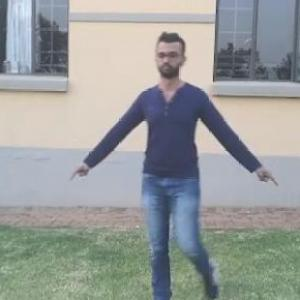land: (93, 42, 260, 288)
